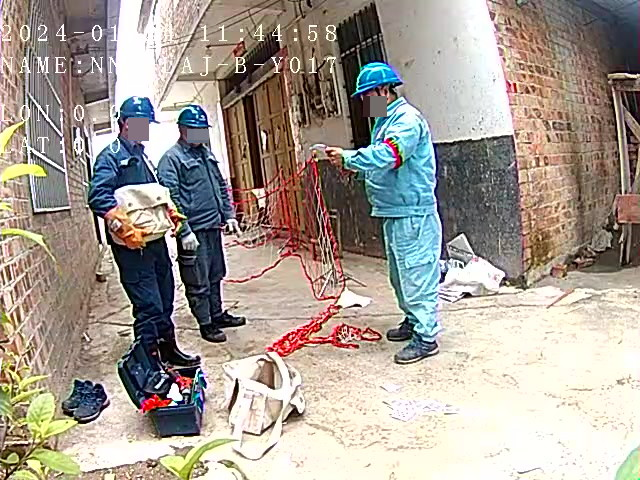badge: (383, 139, 403, 169)
downsuit: (382, 221, 441, 338), (112, 242, 178, 333), (186, 229, 231, 328)
halt: (350, 62, 405, 111), (115, 96, 155, 141), (175, 103, 213, 146)
hand: (325, 144, 345, 167)
inear: (120, 117, 139, 137), (374, 86, 391, 108)
longglove: (106, 211, 147, 251), (167, 205, 183, 236)
person: (331, 60, 449, 358), (89, 95, 184, 345), (162, 99, 243, 341)
shoe: (142, 335, 202, 369)
upsuit: (348, 100, 441, 215), (86, 133, 158, 216), (161, 143, 229, 228)
wglove: (180, 232, 202, 250), (226, 215, 241, 237)
